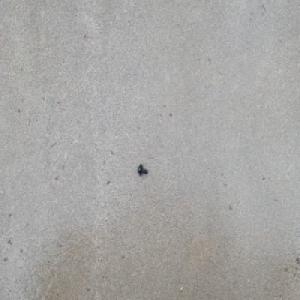BoltWasher: (137, 163, 148, 176)
